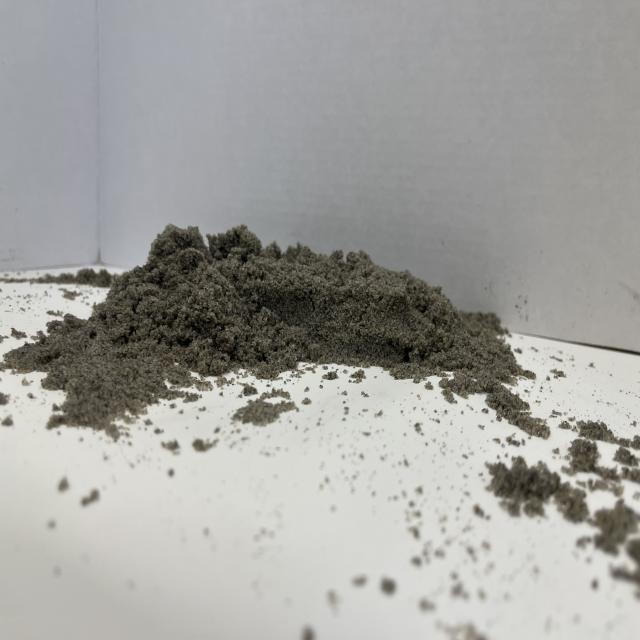sand: (13, 206, 550, 448)
